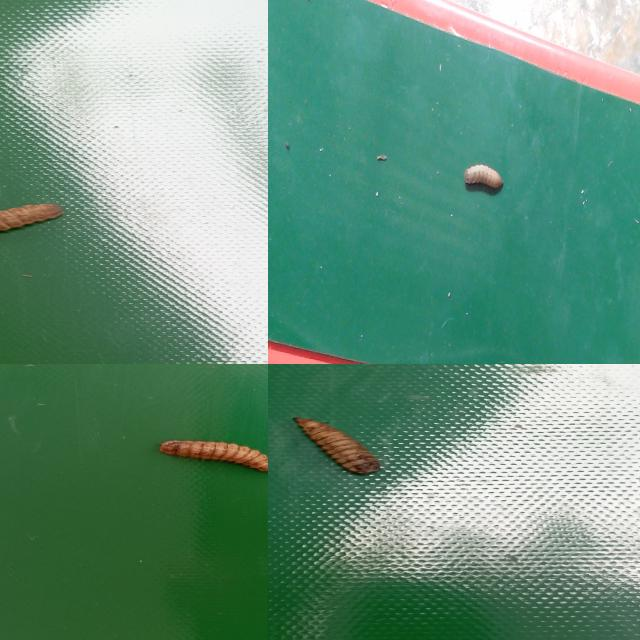Maggot: (294, 417, 381, 477), (157, 440, 268, 475), (0, 203, 62, 237), (466, 163, 505, 195)
